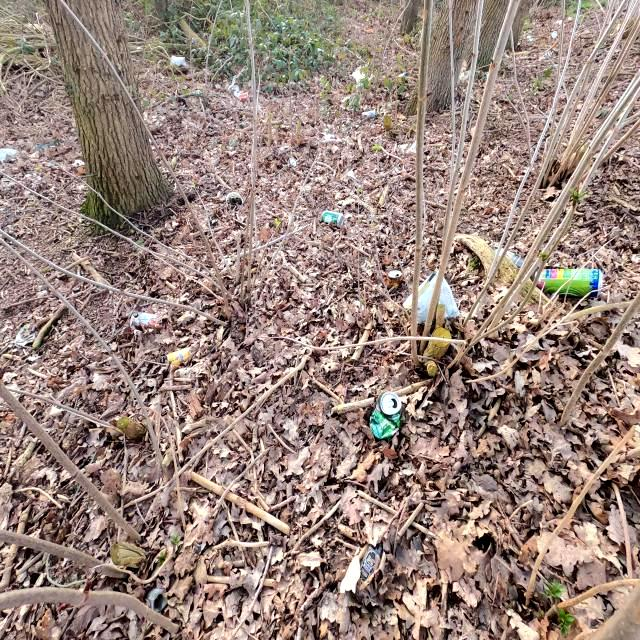Metal: (368, 390, 402, 440), (322, 210, 344, 228)
